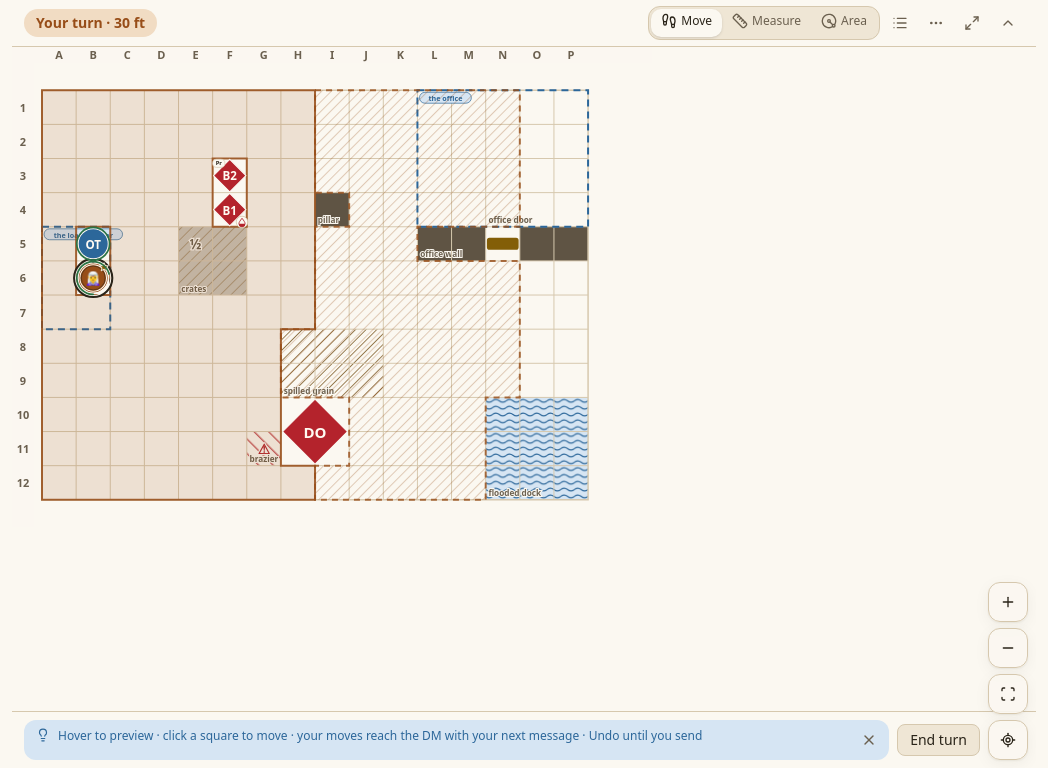
it: MapViewport pointer input (D60) › right-click shows a creature’s card from the player view; an ally can’t be ended on
Right-click the icon that starts with "office wall" at coordinates (524, 380), box [12,47,1036,712]
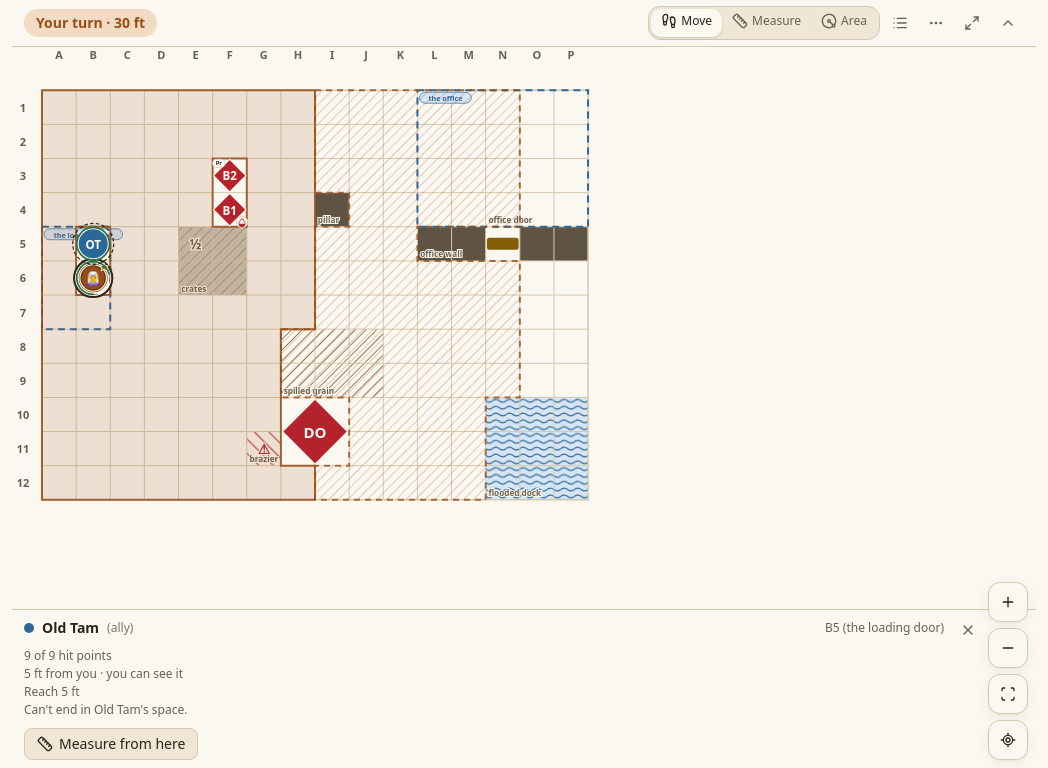
Check: the text "Old Tam" is shown, box [42,618,99,638]
Check: the text "Can't end in Old Tam's space." is shown, box [24,701,187,718]
Press the mouse on the icon that starts with "office wall" at coordinates (524, 380), box [12,47,1036,712]
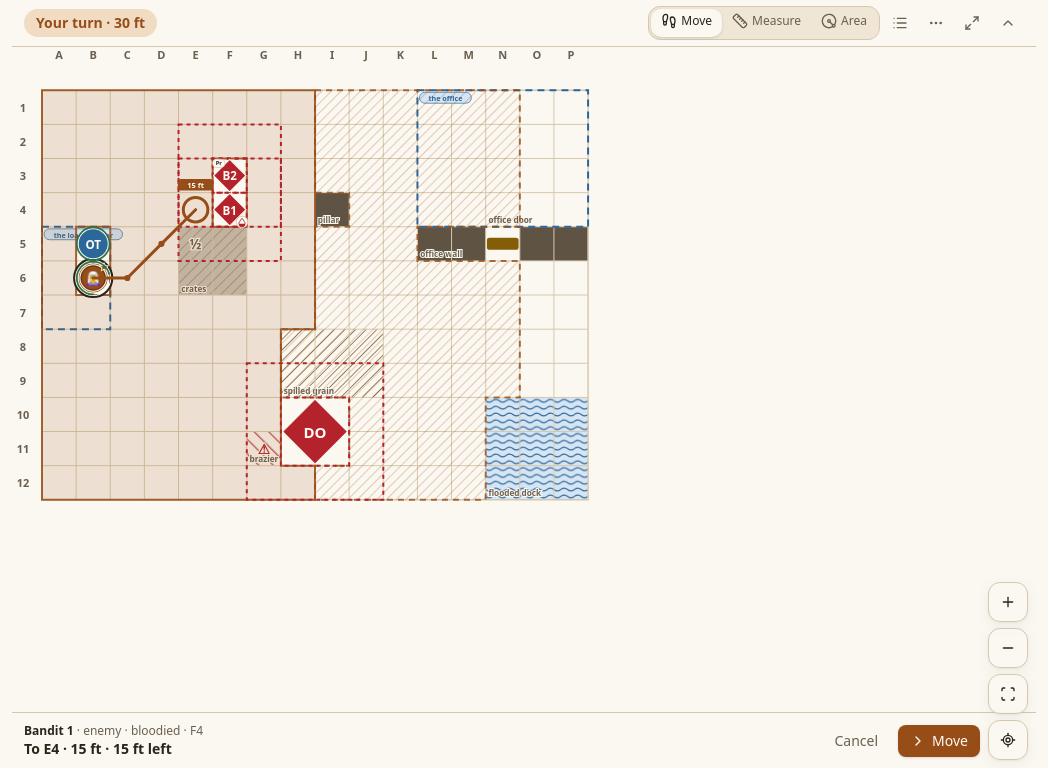
Right-click the icon that starts with "office wall" at coordinates (524, 380), box [12,47,1036,712]
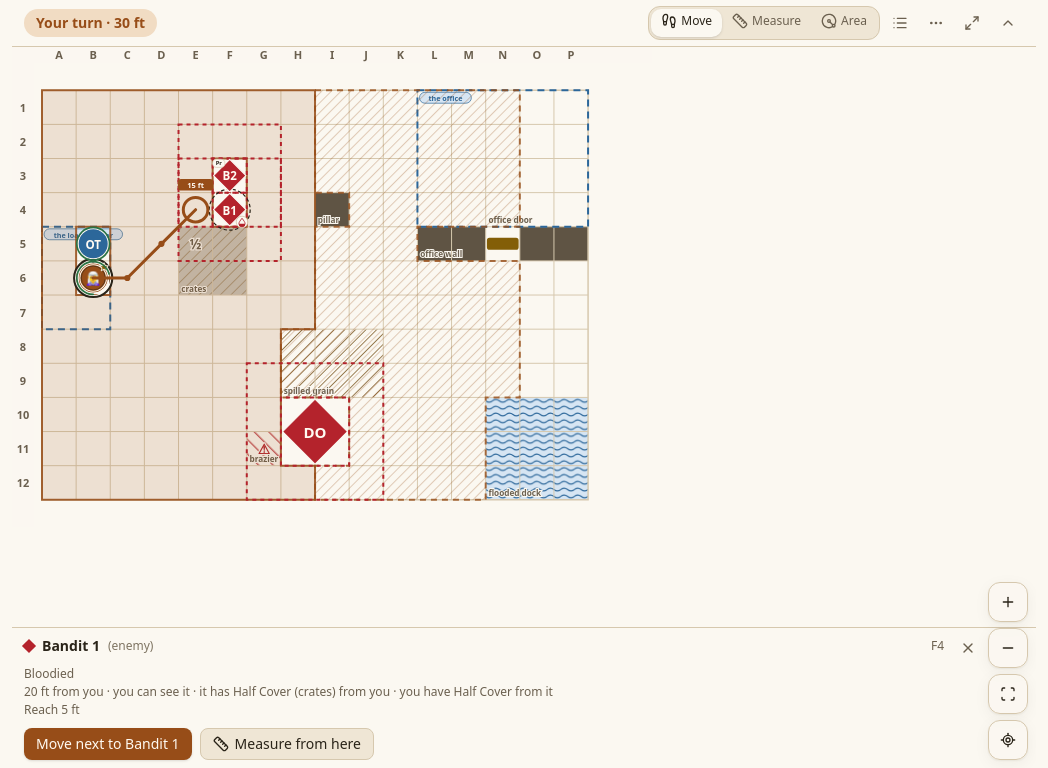
Check: the button "Move next to Bandit 1" is shown, box [24,728,192,760]
